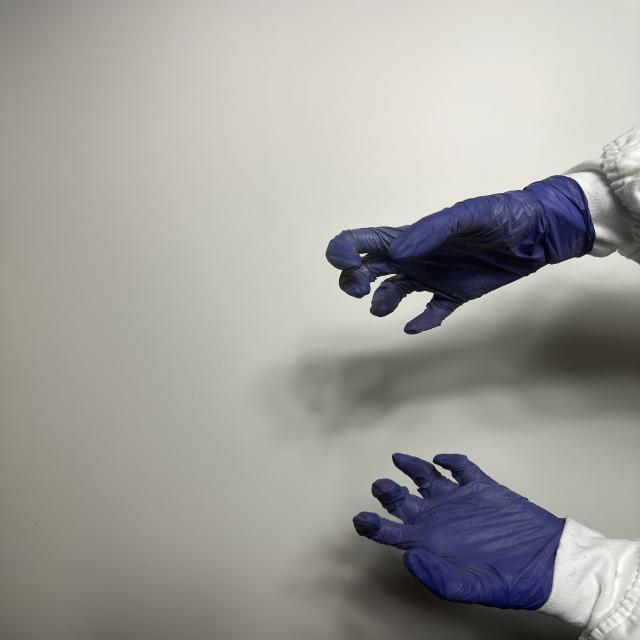gloves_contaminated: (326, 176, 595, 334), (327, 176, 596, 334), (353, 453, 564, 610)
